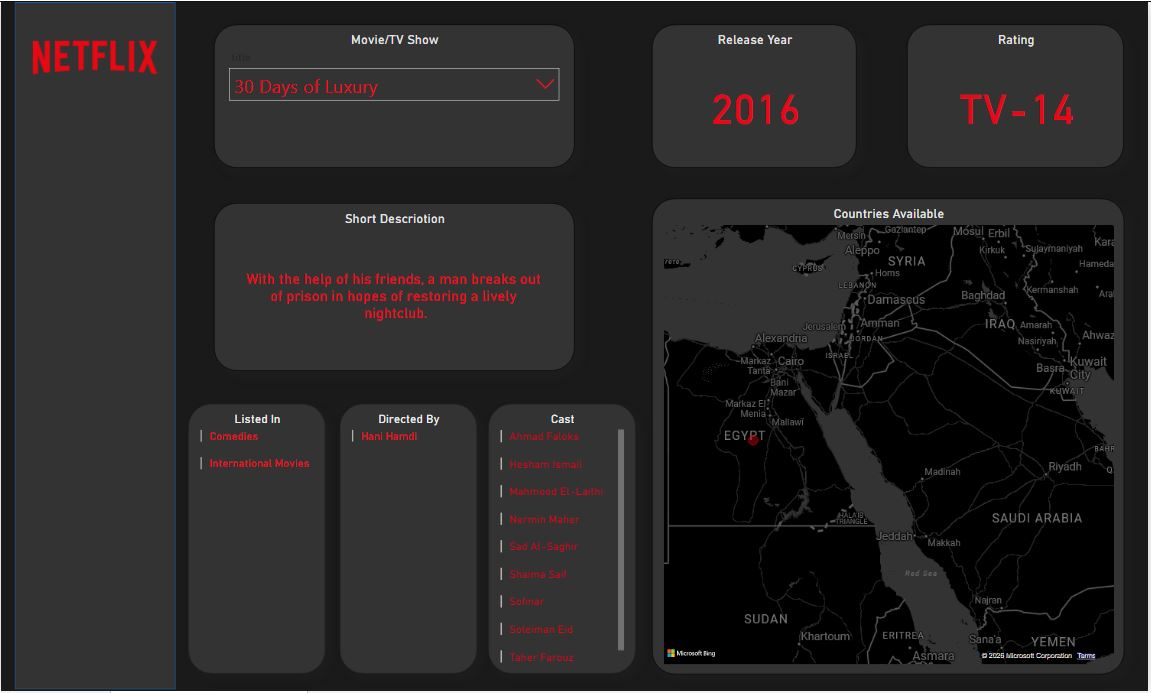

What the dashboard file says about the page in this screenshot:
{"tool":"powerbi","page":{"name":"Single Title View","canvas":[1500,900],"ordinal":1},"visuals":[{"type":"shape","box":[18.3,0,210.4,898.6],"z":0},{"type":"card","title":"Rating","fields":{"Values":["Min(netflix_data netflix_titles.rating)"]},"box":[1184.5,29.7,283.5,187.5],"z":1000},{"type":"map","title":"Countries Available","fields":{"Category":["netflix_data countries_released.country"],"Size":["CountNonNull(netflix_data countries_released.show_id)"]},"box":[850.6,256.1,617.4,622],"z":2000},{"type":"image","box":[18.3,0,210.4,139.5],"z":3000},{"type":"card","title":"Release Year","fields":{"Values":["Sum(netflix_data netflix_titles.release_year)"]},"box":[850.6,29.7,267.5,187.5],"z":4000},{"type":"slicer","title":"Movie/TV Show","fields":{"Values":["netflix_data netflix_titles.title"]},"box":[279,29.7,471,187.5],"z":5000},{"type":"multiRowCard","title":"Cast","fields":{"Values":["netflix_data netflix_cast.cast"]},"box":[638,525.9,192.1,352.1],"z":6000},{"type":"multiRowCard","title":"Directed By","fields":{"Values":["netflix_data netflix_directors.director"]},"box":[443.6,525.9,178.4,352.1],"z":7000},{"type":"multiRowCard","title":"Listed In","fields":{"Values":["netflix_data netflix_listed_in.category"]},"box":[244.7,525.9,178.4,352.1],"z":8000},{"type":"card","title":"Short Descriotion","fields":{"Values":["Min(netflix_data description.description)"]},"box":[279,263,471,219.5],"z":9000}]}

Visuals, with their boxes in screenshot pixels (x1, y1, x2, y2), scaled from the page's 1500x900 canvas onto the 1151x693 screenshot:
shape: x1=14, y1=0, x2=175, y2=692
"Rating" card: x1=909, y1=23, x2=1126, y2=167
"Countries Available" map: x1=653, y1=197, x2=1126, y2=676
image: x1=14, y1=0, x2=175, y2=107
"Release Year" card: x1=653, y1=23, x2=858, y2=167
"Movie/TV Show" slicer: x1=214, y1=23, x2=576, y2=167
"Cast" multiRowCard: x1=490, y1=405, x2=637, y2=676
"Directed By" multiRowCard: x1=340, y1=405, x2=477, y2=676
"Listed In" multiRowCard: x1=188, y1=405, x2=325, y2=676
"Short Descriotion" card: x1=214, y1=203, x2=576, y2=372
